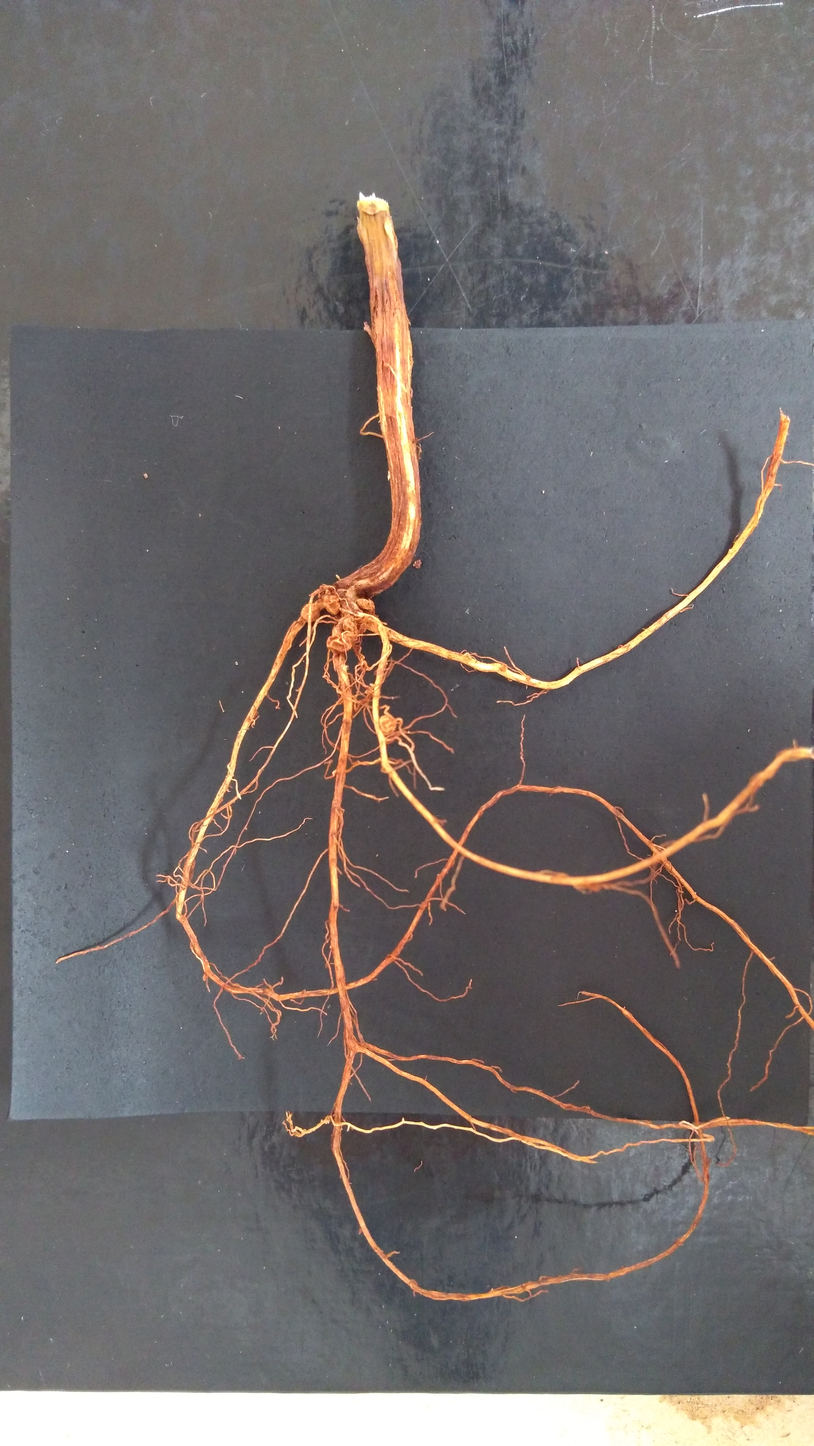nodule: (326, 614, 358, 652), (340, 599, 364, 621), (300, 602, 321, 622), (323, 595, 341, 615), (356, 598, 376, 616), (379, 714, 397, 733), (411, 558, 423, 569), (359, 621, 367, 633), (365, 687, 375, 695), (332, 769, 337, 777), (202, 973, 206, 981)
